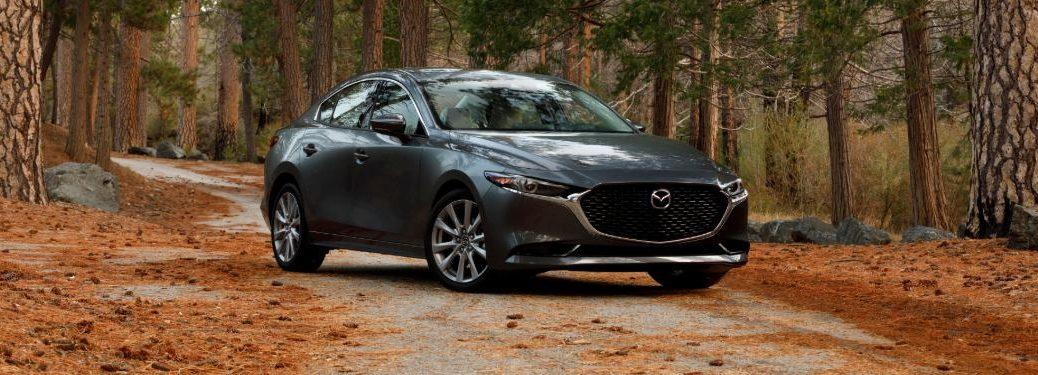car: (264, 54, 748, 300)
